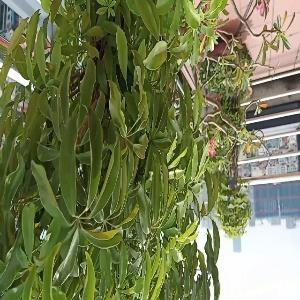drone: (206, 152, 267, 213)
